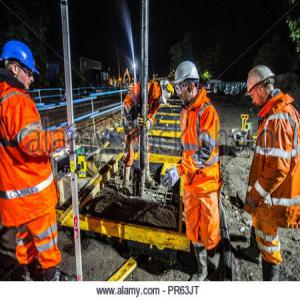blue: (3, 41, 36, 90)
white: (174, 59, 202, 104), (248, 66, 277, 107), (159, 80, 174, 103)
